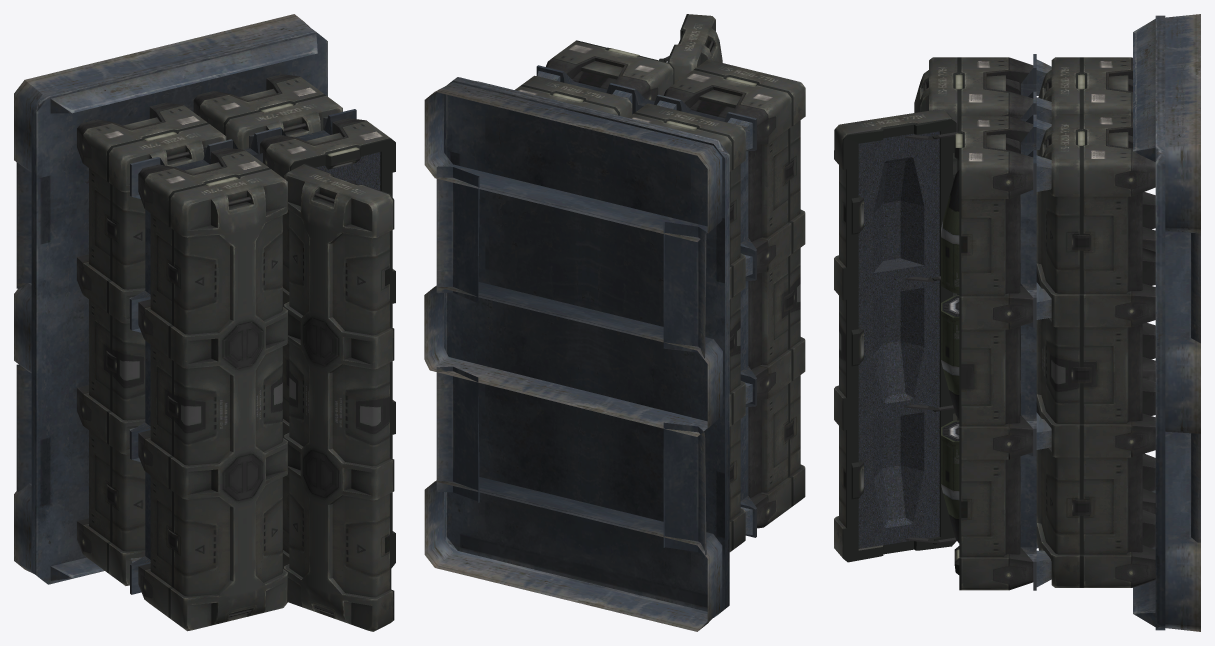
File: p_glo_bomb_stack_LOD1.obj
3 renders of one model, left to right at view 1: azimuth 30°, elevation 25°; view 2: azimuth 150°, elevation 25°; view 3: azimuth 270°, elevation 25°, orthographic. The views are drawn at different scales.
Visible parts, largest first — view 1: mtl_p_glo_bomb_stack_01, mtl_p_glo_bomb_stack_06, mtl_p_glo_bomb_stack_04; view 2: mtl_p_glo_bomb_stack_06, mtl_p_glo_bomb_stack_01; view 3: mtl_p_glo_bomb_stack_01, mtl_p_glo_bomb_stack_06, mtl_p_glo_bomb_stack_04, mtl_p_glo_bomb_stack_05.
Boxes of the visible parts, bbox=[...] form: mtl_p_glo_bomb_stack_01: bbox=[77, 74, 395, 631]; mtl_p_glo_bomb_stack_06: bbox=[14, 14, 356, 594]; mtl_p_glo_bomb_stack_04: bbox=[316, 152, 380, 190]; mtl_p_glo_bomb_stack_06: bbox=[424, 65, 756, 631]; mtl_p_glo_bomb_stack_01: bbox=[514, 14, 805, 551]; mtl_p_glo_bomb_stack_01: bbox=[834, 57, 1155, 590]; mtl_p_glo_bomb_stack_06: bbox=[1020, 14, 1200, 631]; mtl_p_glo_bomb_stack_04: bbox=[858, 131, 939, 548]; mtl_p_glo_bomb_stack_05: bbox=[941, 170, 959, 542].
Bounding box in the file's own units: 130 × 209 × 142.
